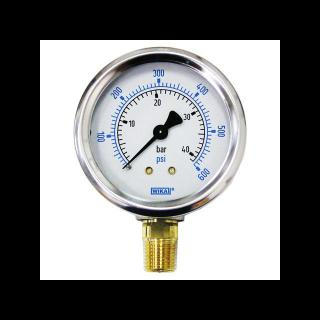gauge: (46, 40, 268, 223), (116, 155, 136, 175), (152, 124, 168, 140), (184, 154, 200, 170), (120, 164, 128, 172)
